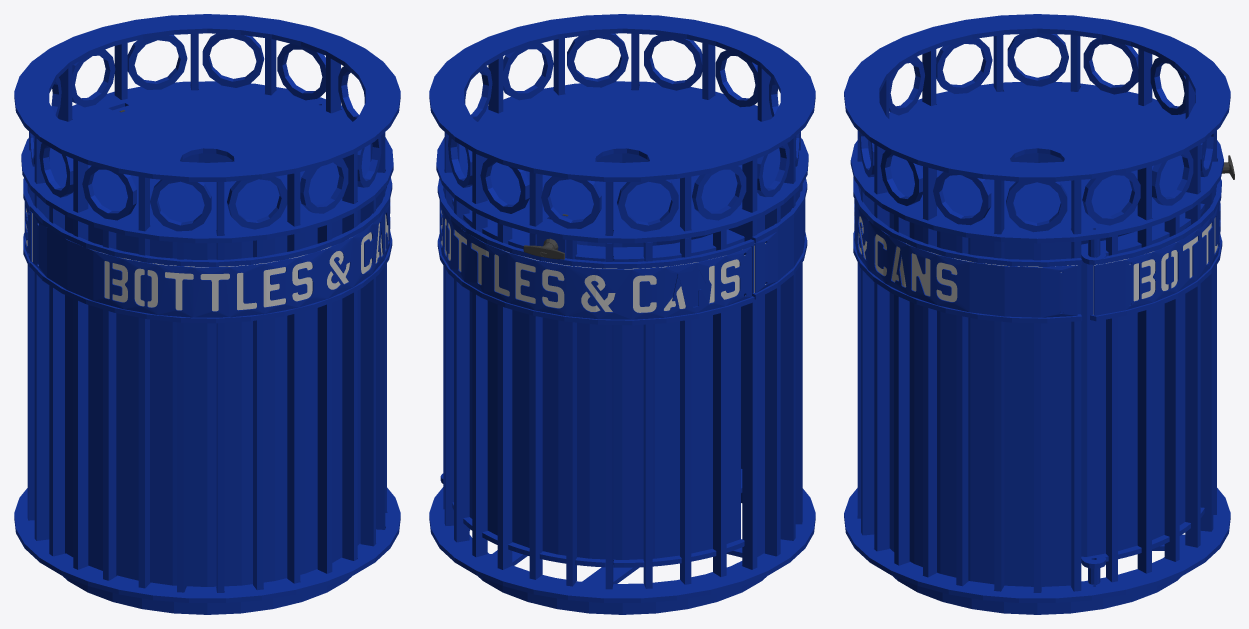
3 views of the same model, side by side, from view 1: azimuth 30°, elevation 25°; view 2: azimuth 150°, elevation 25°; view 3: azimuth 270°, elevation 25° (orthographic).
Parts seen in each view (by area): view 1: mesh219.002_mesh219-geometry, mesh80.002_mesh80-geometry, mesh73.002_mesh73-geometry, mesh182.002_mesh182-geometry, mesh14.002_mesh14-geometry, mesh6.014_mesh6-geometry, mesh6.018_mesh6-geometry, mesh6.010_mesh6-geometry, mesh6.012_mesh6-geometry, mesh223.016_mesh223-geometry, mesh223.014_mesh223-geometry, mesh145.002_mesh145-geometry (+26 smaller); view 2: mesh221.002_mesh221-geometry, mesh80.002_mesh80-geometry, mesh73.002_mesh73-geometry, mesh148.002_mesh148-geometry, mesh14.002_mesh14-geometry, mesh6.010_mesh6-geometry, mesh6.014_mesh6-geometry, mesh223.014_mesh223-geometry, mesh129.022_mesh129-geometry, mesh129.021_mesh129-geometry, mesh129.020_mesh129-geometry, mesh143.002_mesh143-geometry (+35 smaller); view 3: mesh219.002_mesh219-geometry, mesh80.002_mesh80-geometry, mesh73.002_mesh73-geometry, mesh221.002_mesh221-geometry, mesh182.002_mesh182-geometry, mesh14.002_mesh14-geometry, mesh148.002_mesh148-geometry, mesh6.018_mesh6-geometry, mesh6.011_mesh6-geometry, mesh223.012_mesh223-geometry, mesh129.020_mesh129-geometry, mesh129.021_mesh129-geometry (+34 smaller).
Boxes of the visible parts, x1,y1,x2,y2 form: mesh219.002_mesh219-geometry: (65,209,360,586); mesh80.002_mesh80-geometry: (21,81,393,243); mesh73.002_mesh73-geometry: (14,14,400,181); mesh182.002_mesh182-geometry: (32,199,390,317); mesh14.002_mesh14-geometry: (14,487,400,602); mesh6.014_mesh6-geometry: (73,159,88,569); mesh6.018_mesh6-geometry: (342,152,357,560); mesh6.010_mesh6-geometry: (34,137,49,540); mesh6.012_mesh6-geometry: (287,172,300,583); mesh223.016_mesh223-geometry: (317,223,332,573); mesh223.014_mesh223-geometry: (49,206,64,556); mesh145.002_mesh145-geometry: (93,214,388,311); mesh221.002_mesh221-geometry: (469,225,740,559); mesh80.002_mesh80-geometry: (436,81,808,243); mesh73.002_mesh73-geometry: (429,14,815,181); mesh148.002_mesh148-geometry: (439,201,751,319); mesh14.002_mesh14-geometry: (429,469,815,602); mesh6.010_mesh6-geometry: (742,159,757,569); mesh6.014_mesh6-geometry: (780,136,795,540); mesh223.014_mesh223-geometry: (765,206,780,556); mesh129.022_mesh129-geometry: (497,223,512,569); mesh129.021_mesh129-geometry: (472,211,487,557); mesh129.020_mesh129-geometry: (454,198,469,542); mesh143.002_mesh143-geometry: (441,210,744,312); mesh219.002_mesh219-geometry: (889,153,1071,586); mesh80.002_mesh80-geometry: (850,81,1223,243); mesh73.002_mesh73-geometry: (844,14,1230,181); mesh221.002_mesh221-geometry: (1081,229,1185,556); mesh182.002_mesh182-geometry: (854,199,1077,317); mesh14.002_mesh14-geometry: (844,488,1230,602); mesh148.002_mesh148-geometry: (1094,202,1220,315); mesh6.018_mesh6-geometry: (874,144,889,551); mesh6.011_mesh6-geometry: (923,166,936,577); mesh223.012_mesh223-geometry: (894,215,909,565); mesh129.020_mesh129-geometry: (1164,215,1179,561); mesh129.021_mesh129-geometry: (1185,202,1200,547).
Size of the model in its own units: 0.521 by 0.6713 by 0.5272.
